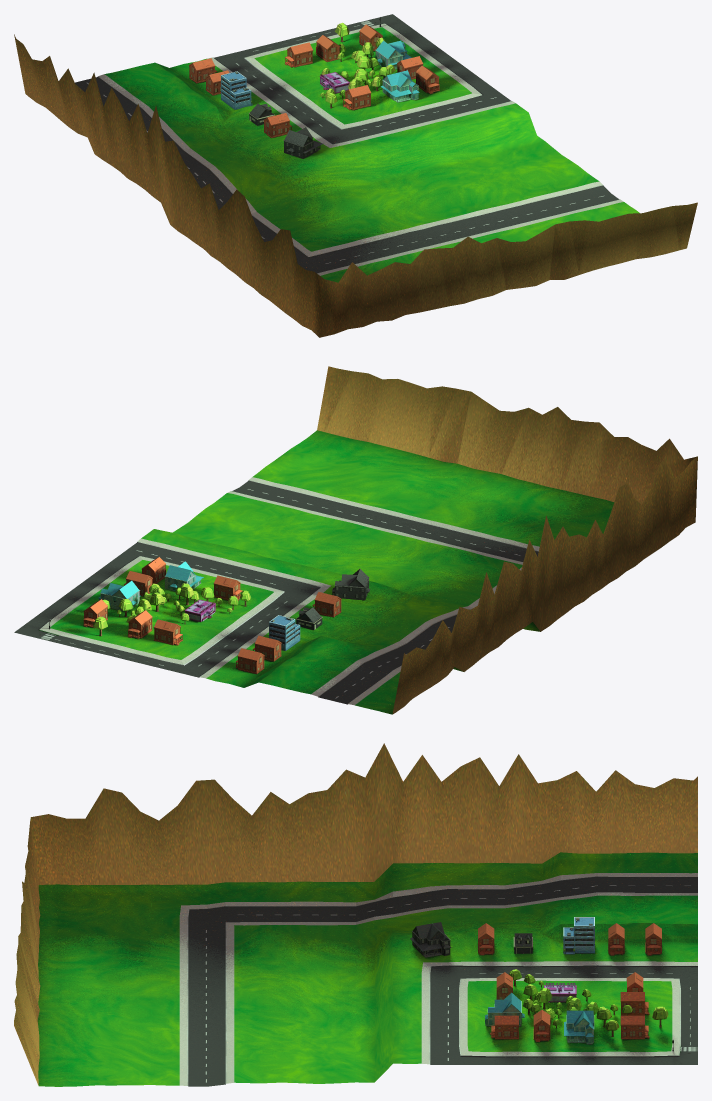
Rendered from city_sw.obj.
The picture shows the model from 3 angles, top to bottom: view 1: azimuth 30°, elevation 25°; view 2: azimuth 150°, elevation 25°; view 3: azimuth 270°, elevation 25°; orthographic projection. The views are drawn at different scales.
Size of the model in its own units: 317 by 98.6 by 441.
